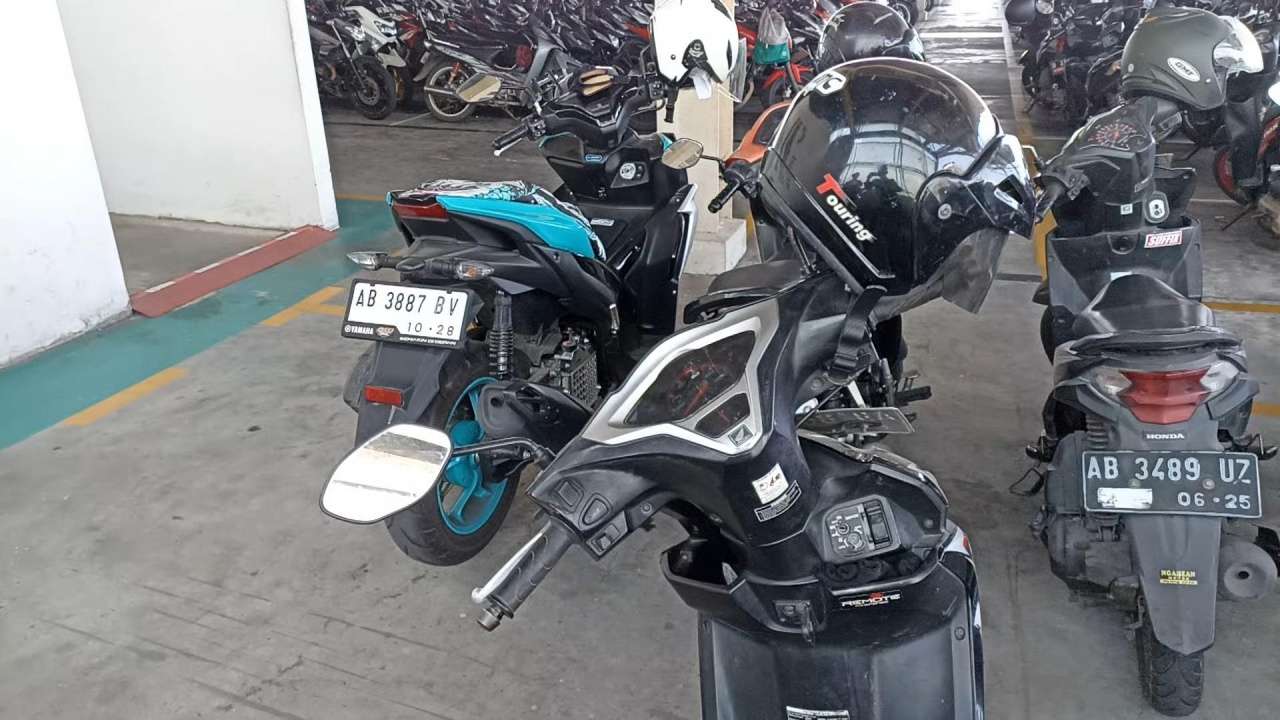plate: (1082, 452, 1262, 518), (343, 280, 470, 347)
